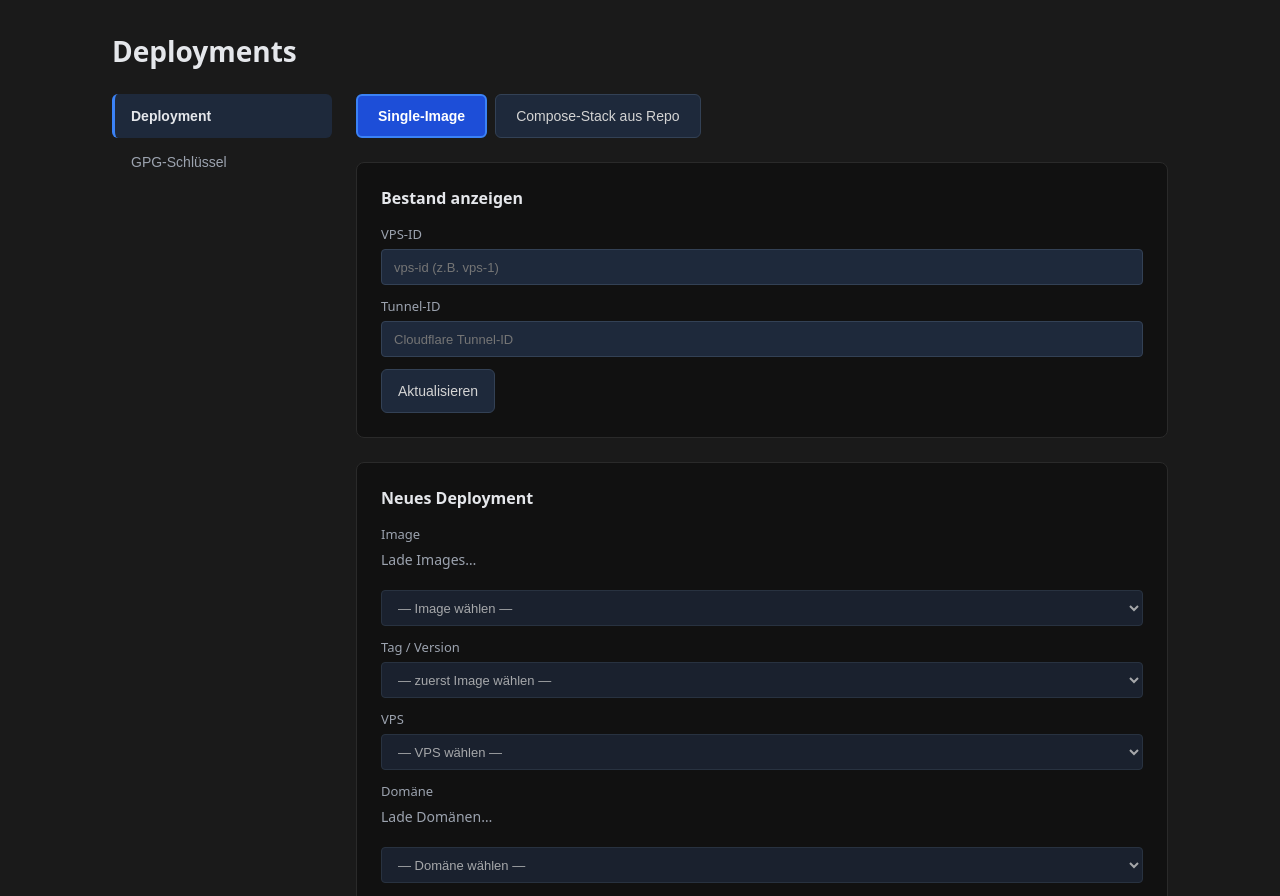
Test: DeploymentsView — Bereichs-Untermenü Deployment/GPG-Schlüssel (F-087/S-374) › AC1: Zurück-Wechsel zu "Deployment" zeigt den Deployment-Inhalt wieder
Click the button "GPG-Schlüssel": (222, 162) [112,140,332,184]
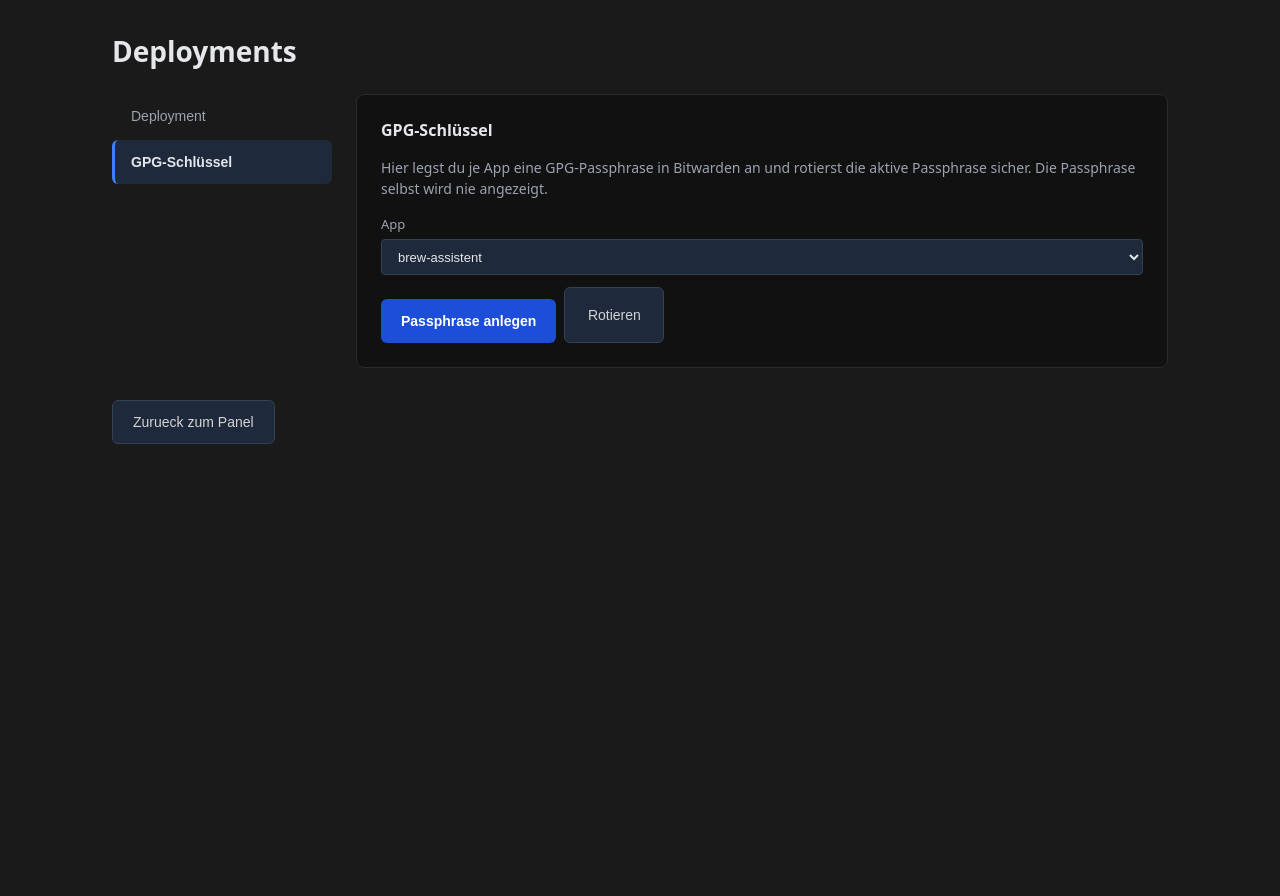
Click the button "Deployment": (222, 116) [112,94,332,138]
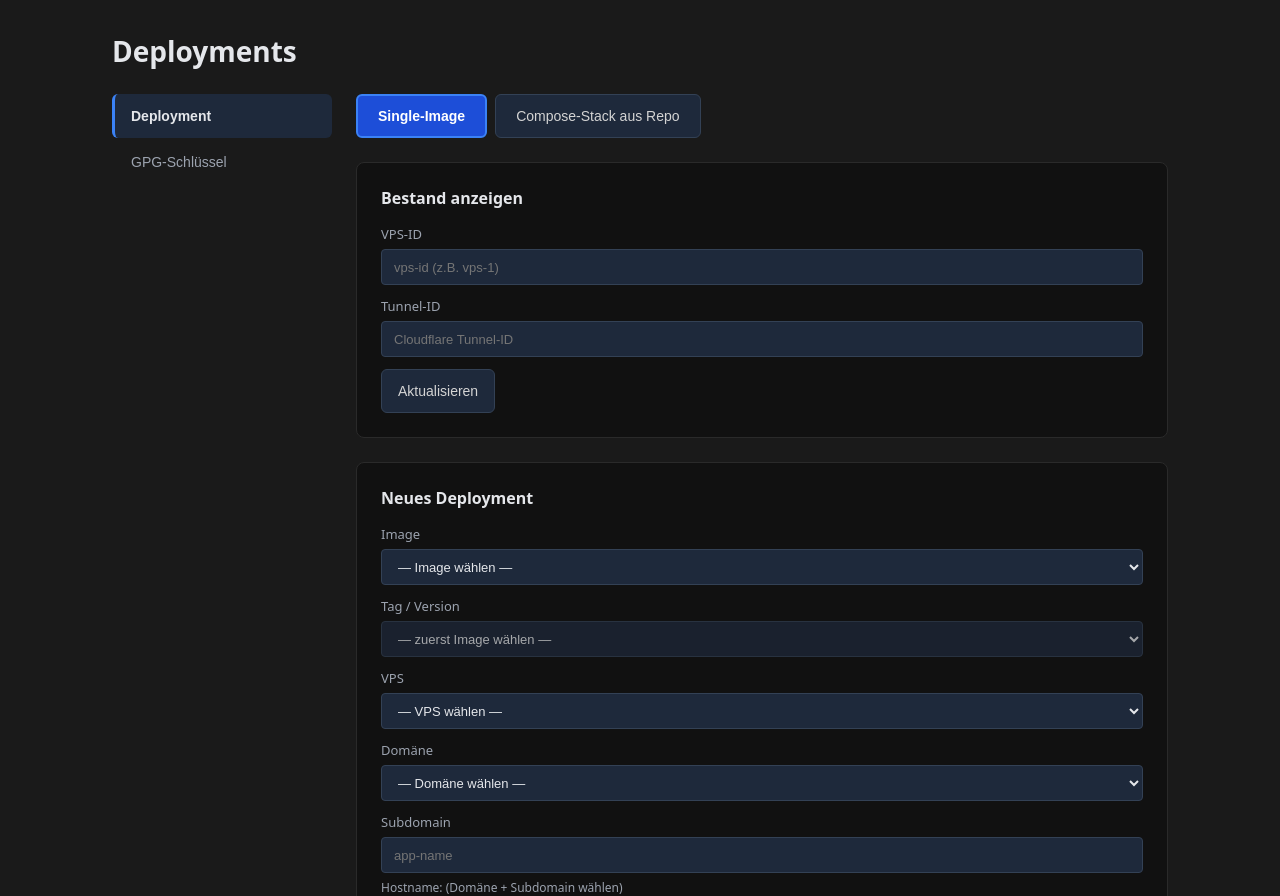
Result: the element named "Deployment-Modus wählen" is shown at [356,94,701,138]
Result: the element named "GPG-Schlüssel" is gone
